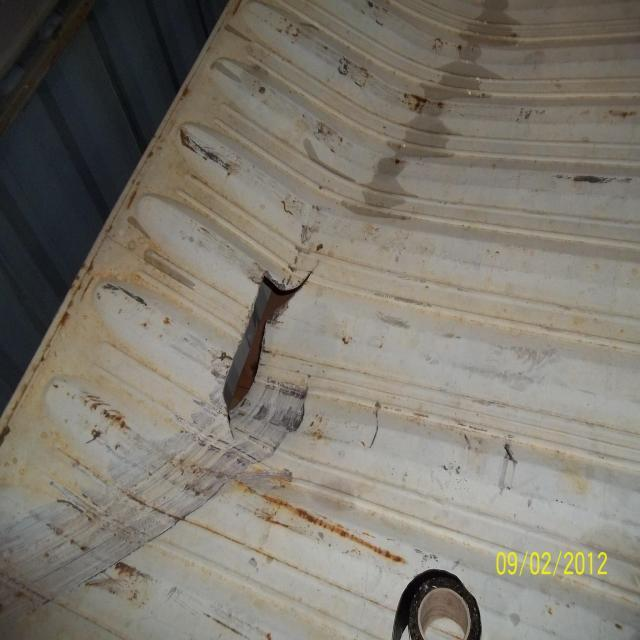hole: (222, 268, 295, 419)
